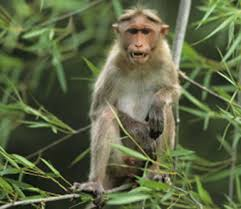monkey: (81, 9, 197, 195)
